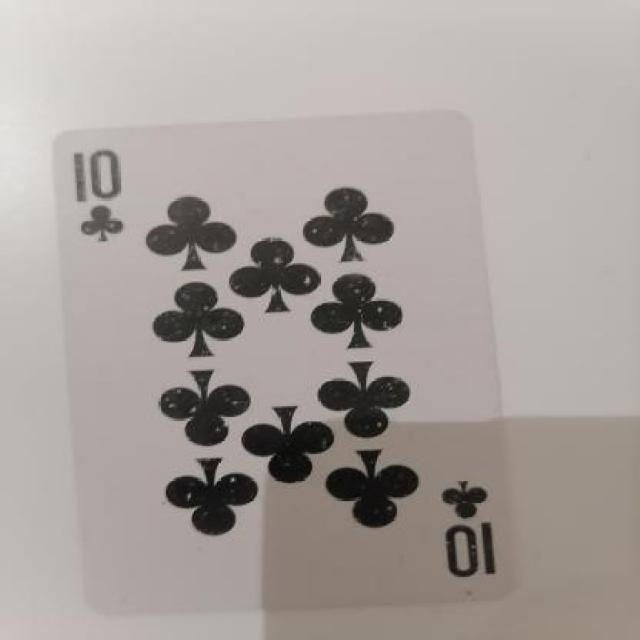10C: (416, 450, 513, 588), (66, 135, 140, 271)
